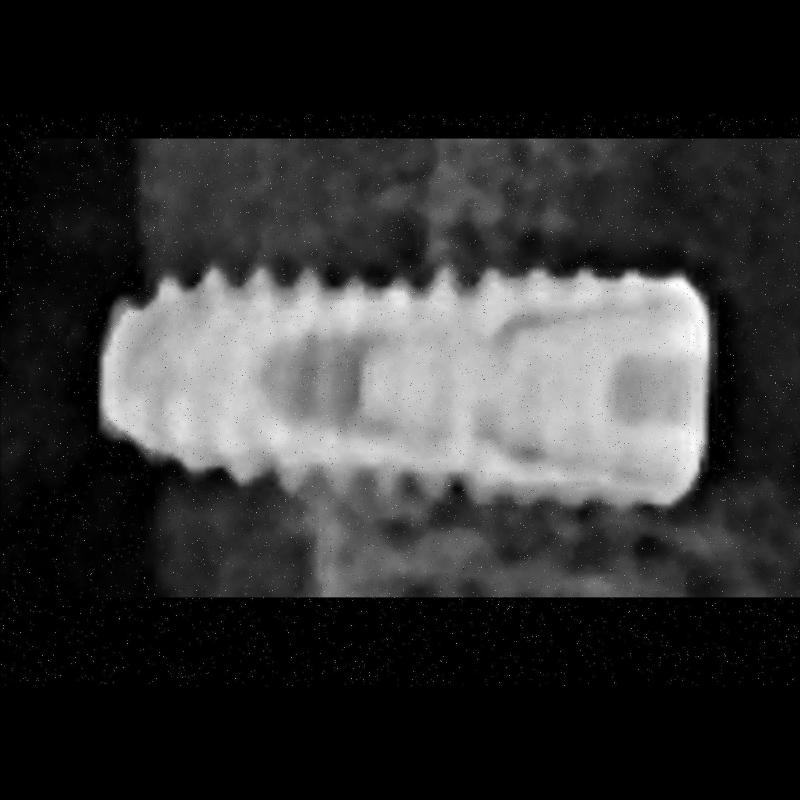osstem: (88, 259, 710, 503)
